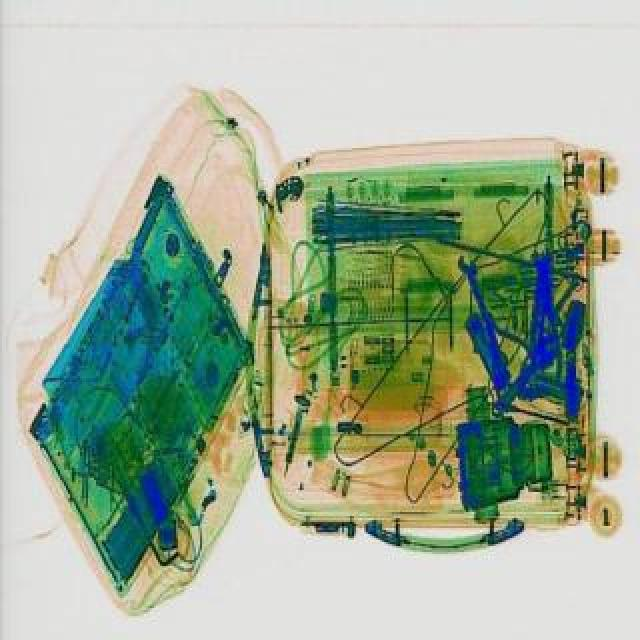scissors: (454, 250, 514, 388)
